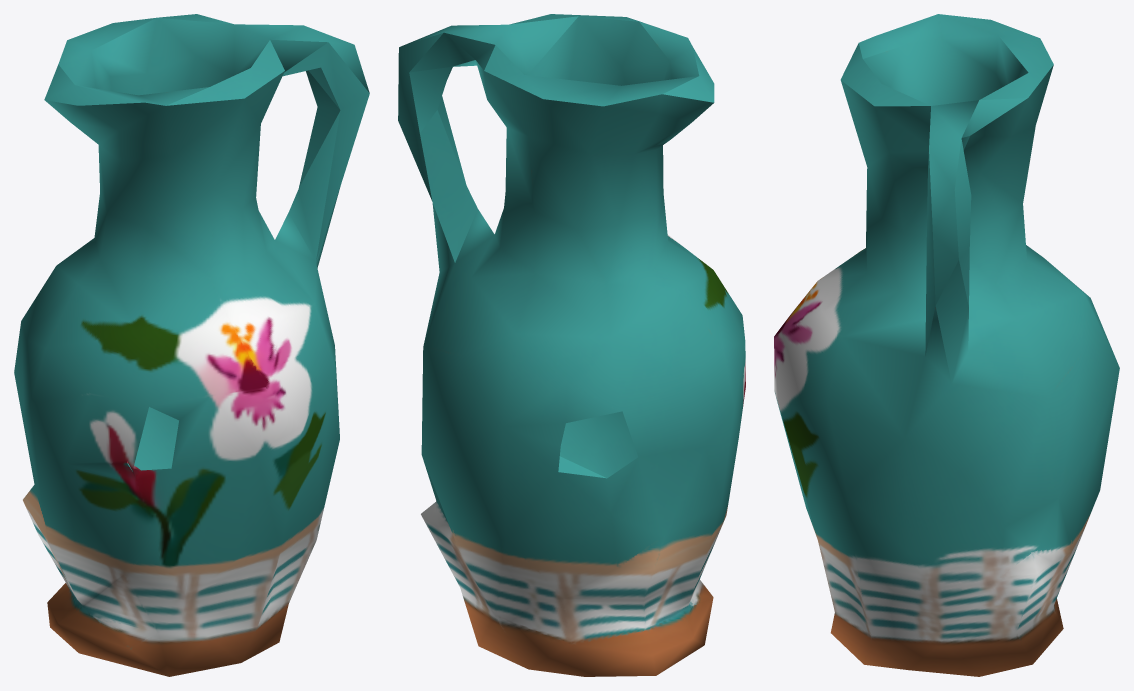
File: poolhouse-pitcher-vase.glb
3 renders of one model, left to right at view 1: azimuth 30°, elevation 25°; view 2: azimuth 150°, elevation 25°; view 3: azimuth 270°, elevation 25°, orthographic.
Parts seen in each view (by area): view 1: geometry_0.001; view 2: geometry_0.001; view 3: geometry_0.001.
Part boxes in pixels (x1,y1,x2,y2): geometry_0.001: [14, 14, 369, 676]; geometry_0.001: [398, 14, 745, 676]; geometry_0.001: [774, 14, 1119, 676].
Bounding box in the file's own units: 0.6035 × 0.9996 × 0.5454.
Materials: 1 (1 with a texture image).
